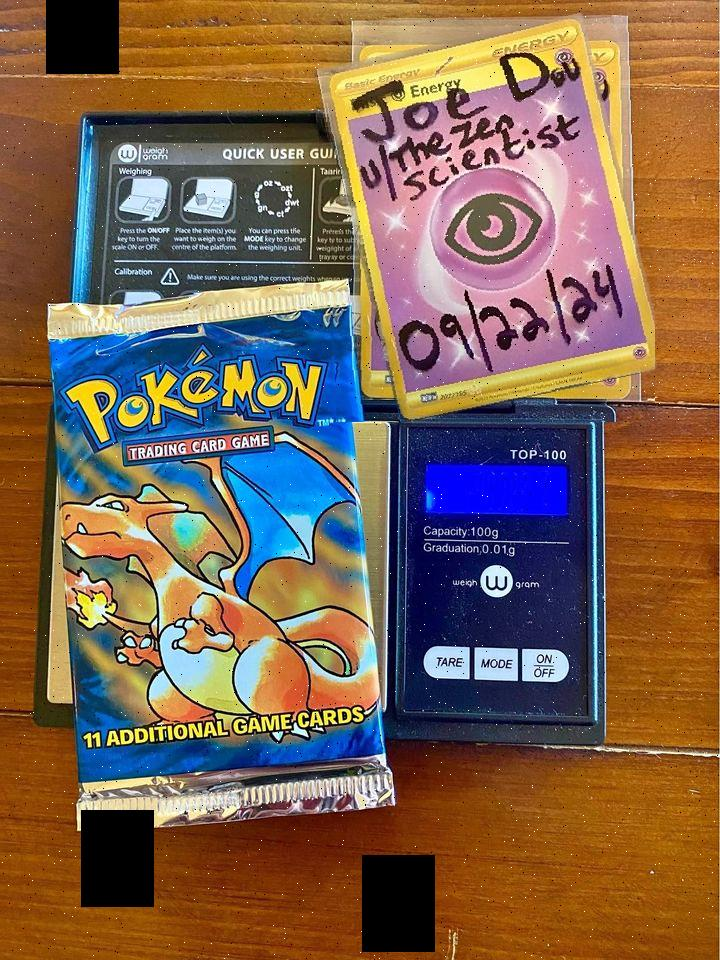card: (326, 16, 655, 422)
